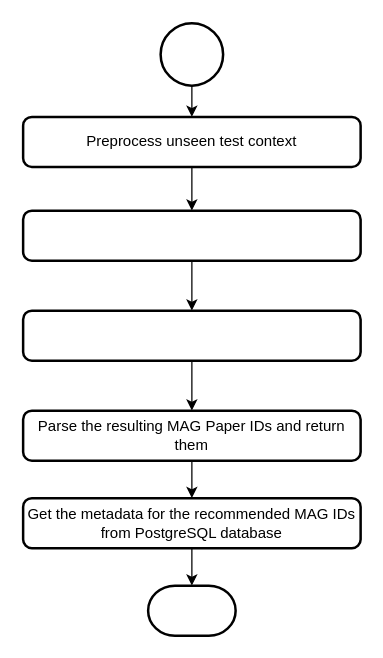
Image size: 383x658. Some labels were removed from this diagram. Here are the shapes that lost their labels. From the top down, the box of each, then its label:
(21, 209, 361, 261): Query Solr index using all the words in the context by sending a GET request
(21, 309, 361, 361): Get the top k results back from SOLR in JSON format
